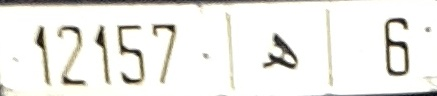1: (33, 24, 54, 88), (93, 22, 114, 84)
2: (57, 25, 89, 87)
5: (116, 23, 148, 85)
6: (381, 16, 411, 77)
7: (150, 22, 177, 84)
h: (258, 30, 300, 70)
